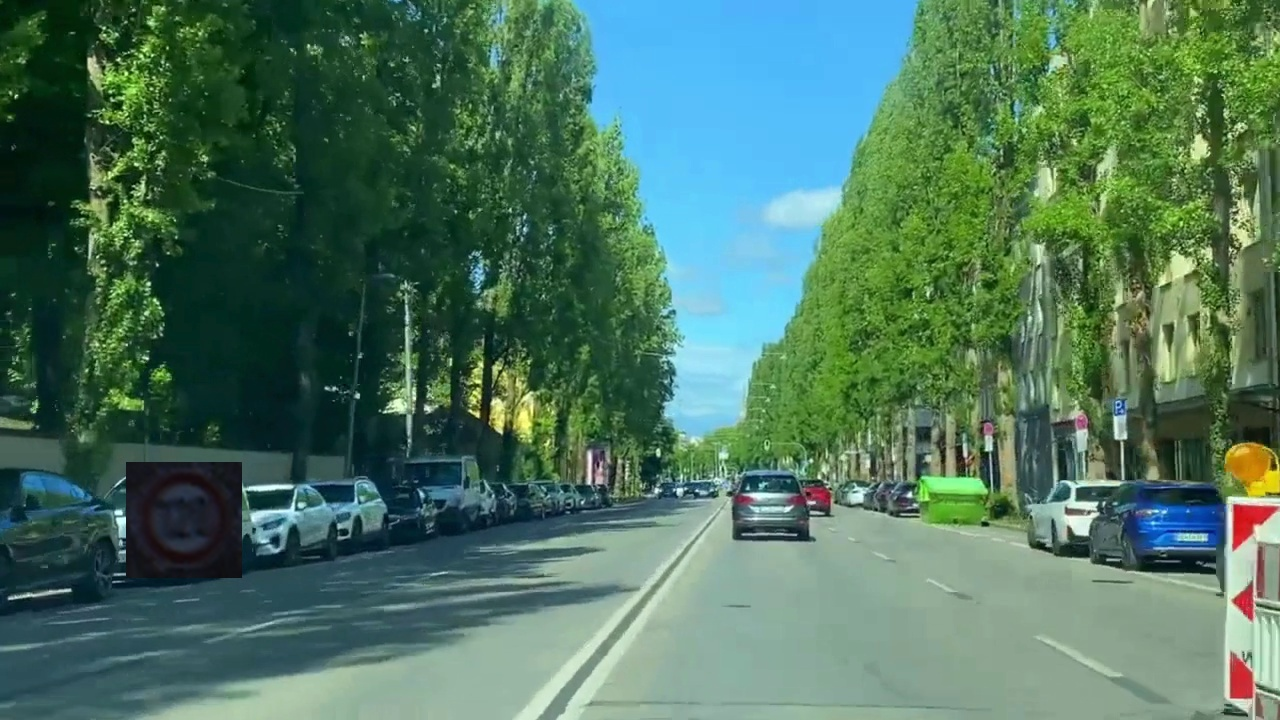Speed 120: (126, 462, 242, 578)
